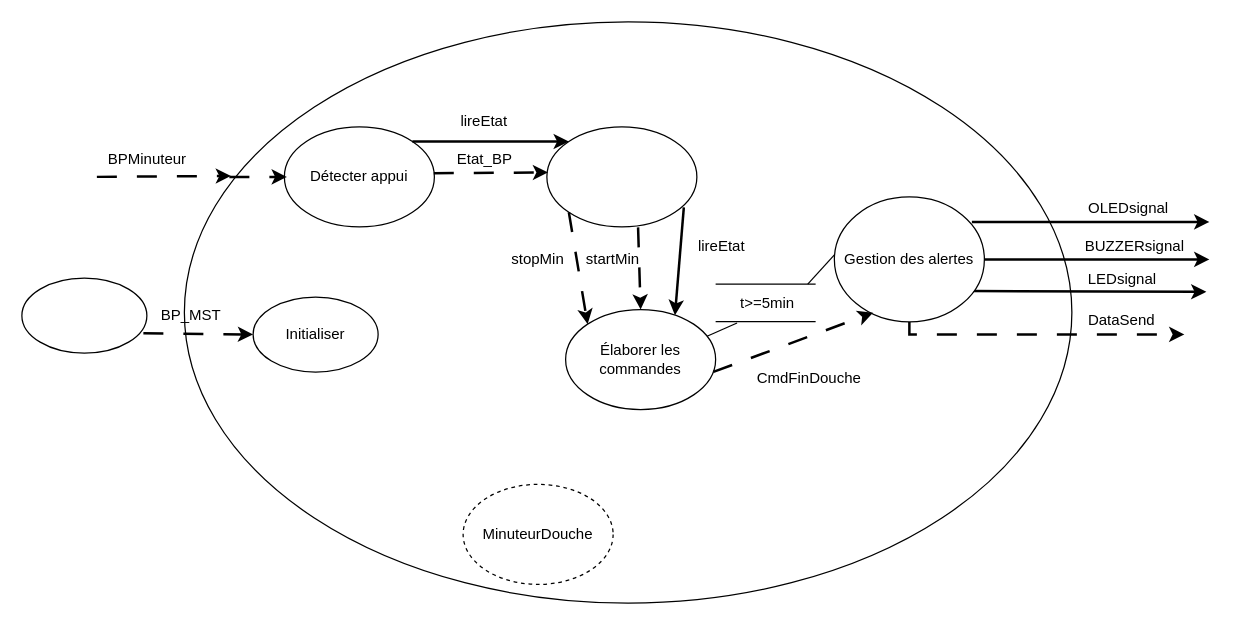
The diagram is 1243 pixels wide and 625 high, and some of its shapes have lost their labels. The box of each missing label's shape, as (x1, y1, x2, y2) in pixels:
Batterie: (21, 277, 147, 353)
Gestion des appuis: (546, 126, 697, 227)
